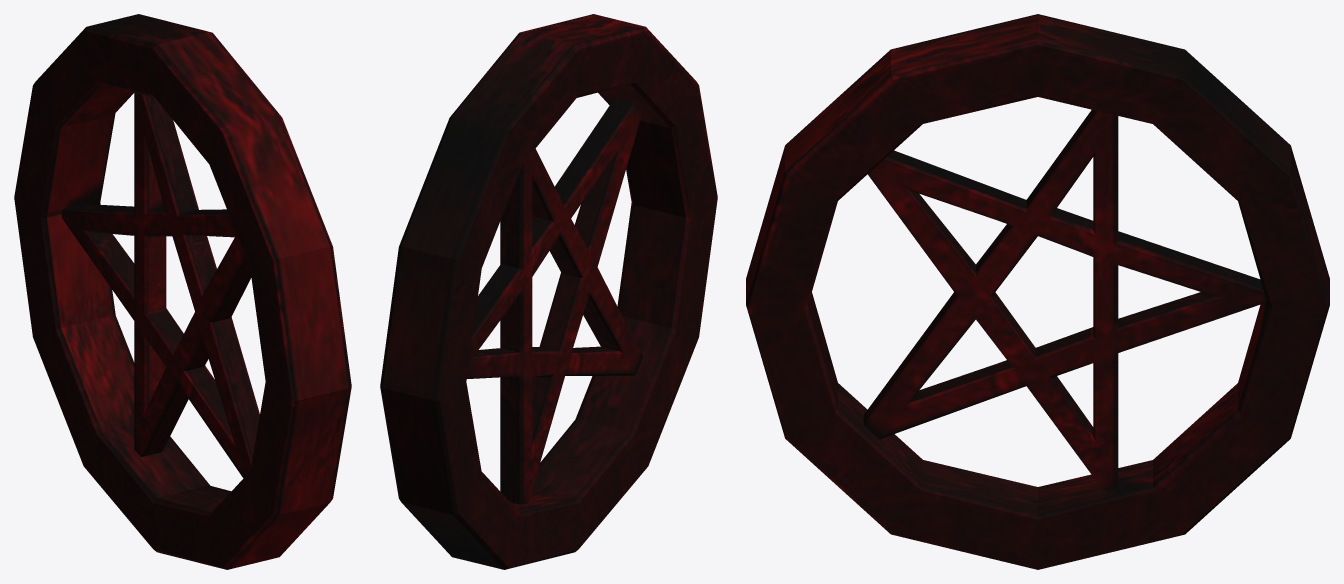
Rendered from invulner.obj.
3 renders of one model, left to right at view 1: azimuth 30°, elevation 25°; view 2: azimuth 150°, elevation 25°; view 3: azimuth 270°, elevation 25°, orthographic. The views are drawn at different scales.
Bounding box in the file's own units: 3.98 × 32.37 × 32.37.
Materials: 1 (1 with a texture image).
